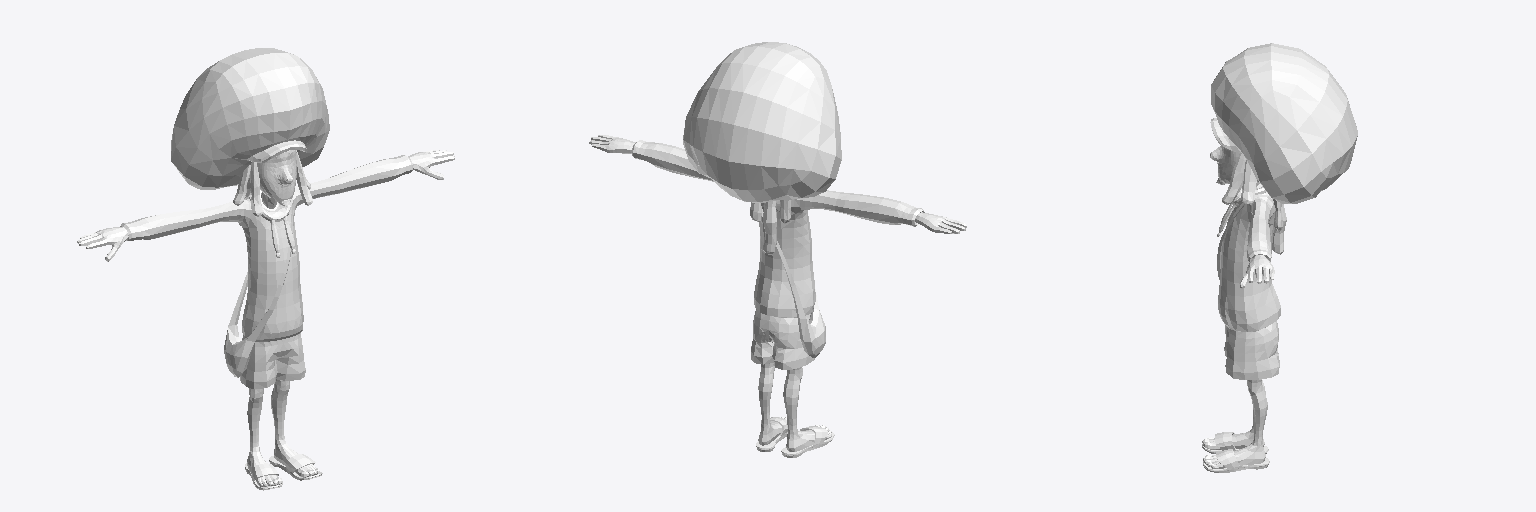
The model's file is kaya2.obj.
3 views of the same model, side by side, from view 1: azimuth 30°, elevation 25°; view 2: azimuth 150°, elevation 25°; view 3: azimuth 270°, elevation 25° (orthographic).
Visible parts, largest first — view 1: OccupyGuy_Body_Mesh; view 2: OccupyGuy_Body_Mesh; view 3: OccupyGuy_Body_Mesh.
Boxes of the visible parts, x1=… form: OccupyGuy_Body_Mesh: x1=77, y1=48, x2=454, y2=490; OccupyGuy_Body_Mesh: x1=589, y1=42, x2=966, y2=457; OccupyGuy_Body_Mesh: x1=1202, y1=43, x2=1357, y2=472.
Bounding box in the file's own units: 1.93 × 2.01 × 0.7021.